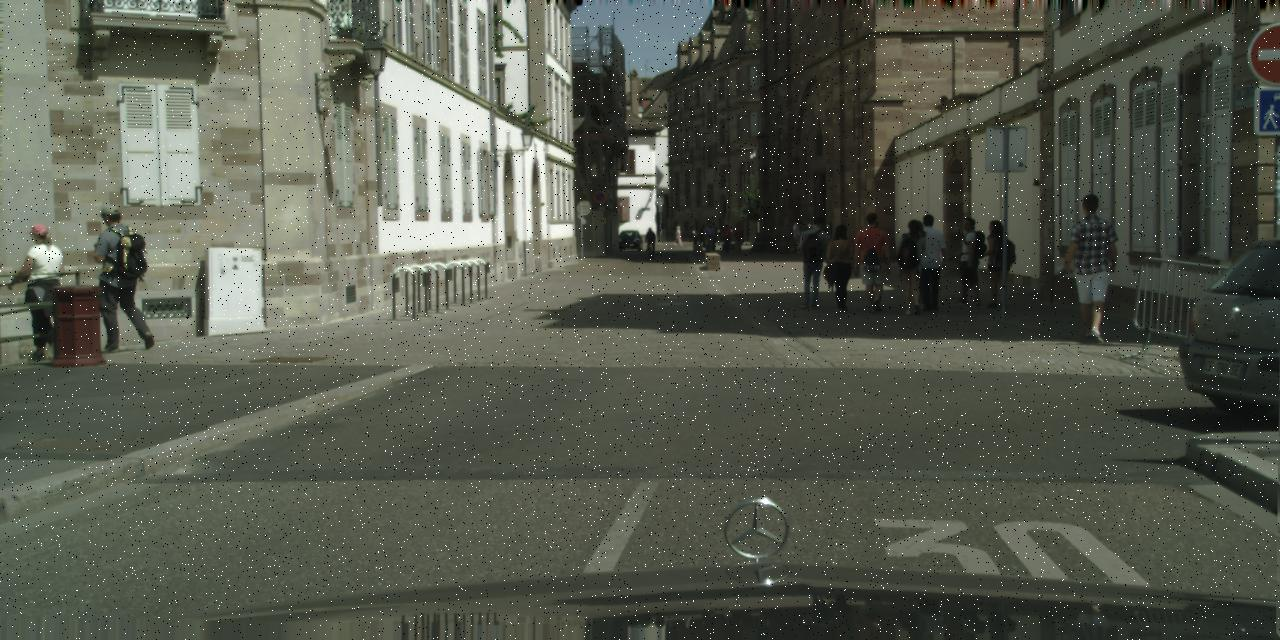ped: (1060, 194, 1120, 341), (89, 204, 149, 349), (16, 222, 71, 357), (853, 212, 894, 312), (893, 219, 933, 314), (911, 214, 950, 311), (795, 217, 832, 308), (824, 224, 860, 311), (979, 220, 1014, 308), (952, 217, 987, 304), (790, 218, 804, 254), (703, 222, 715, 251), (720, 223, 731, 252), (732, 223, 743, 252), (707, 222, 718, 250), (644, 227, 655, 254), (698, 224, 706, 247), (674, 225, 681, 246)
